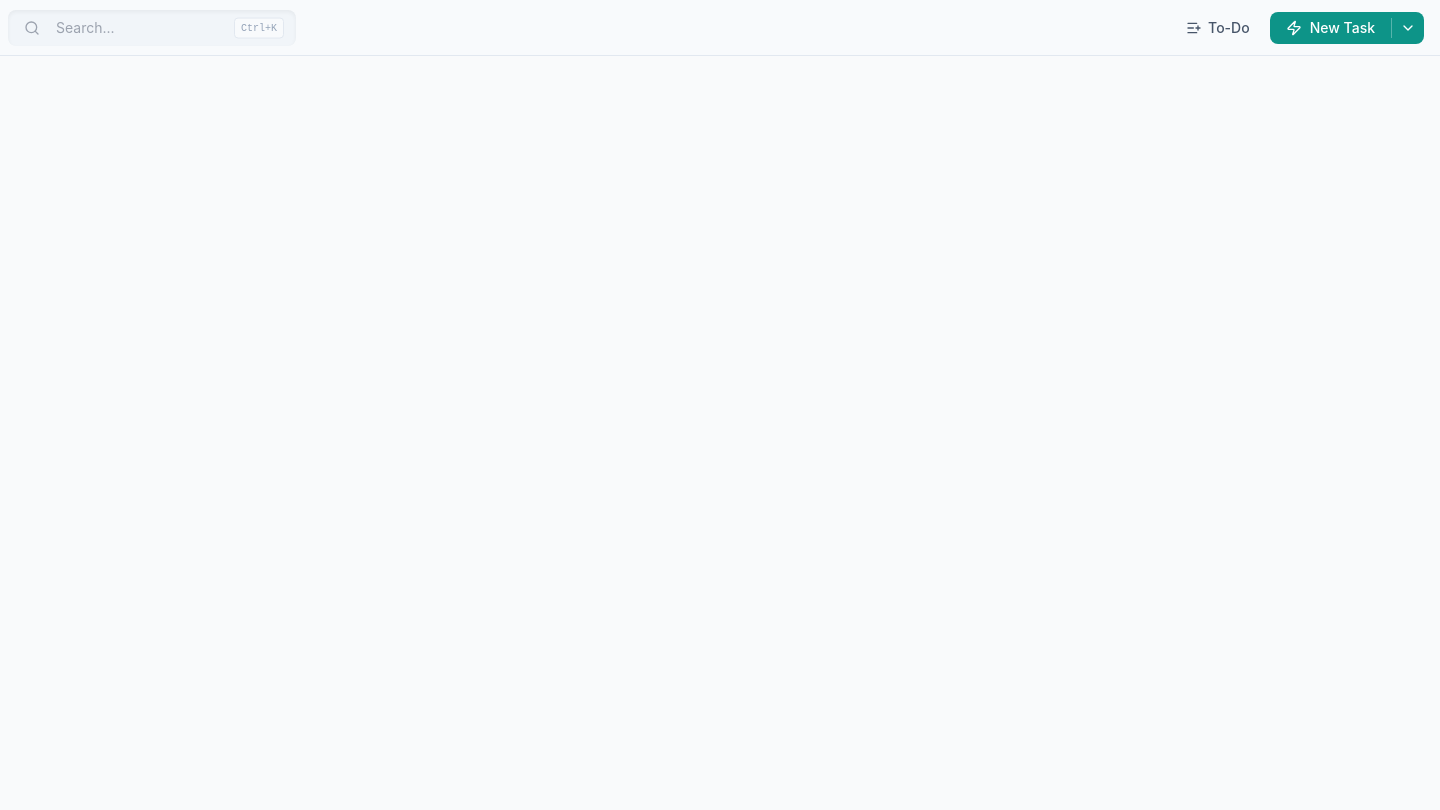
Test case: GlobalHeader desktop toolbar › closes the creation menu on an outside pointer press
Click the button named "More creation options".
click(1408, 28)  # box [1392,12,1424,44]
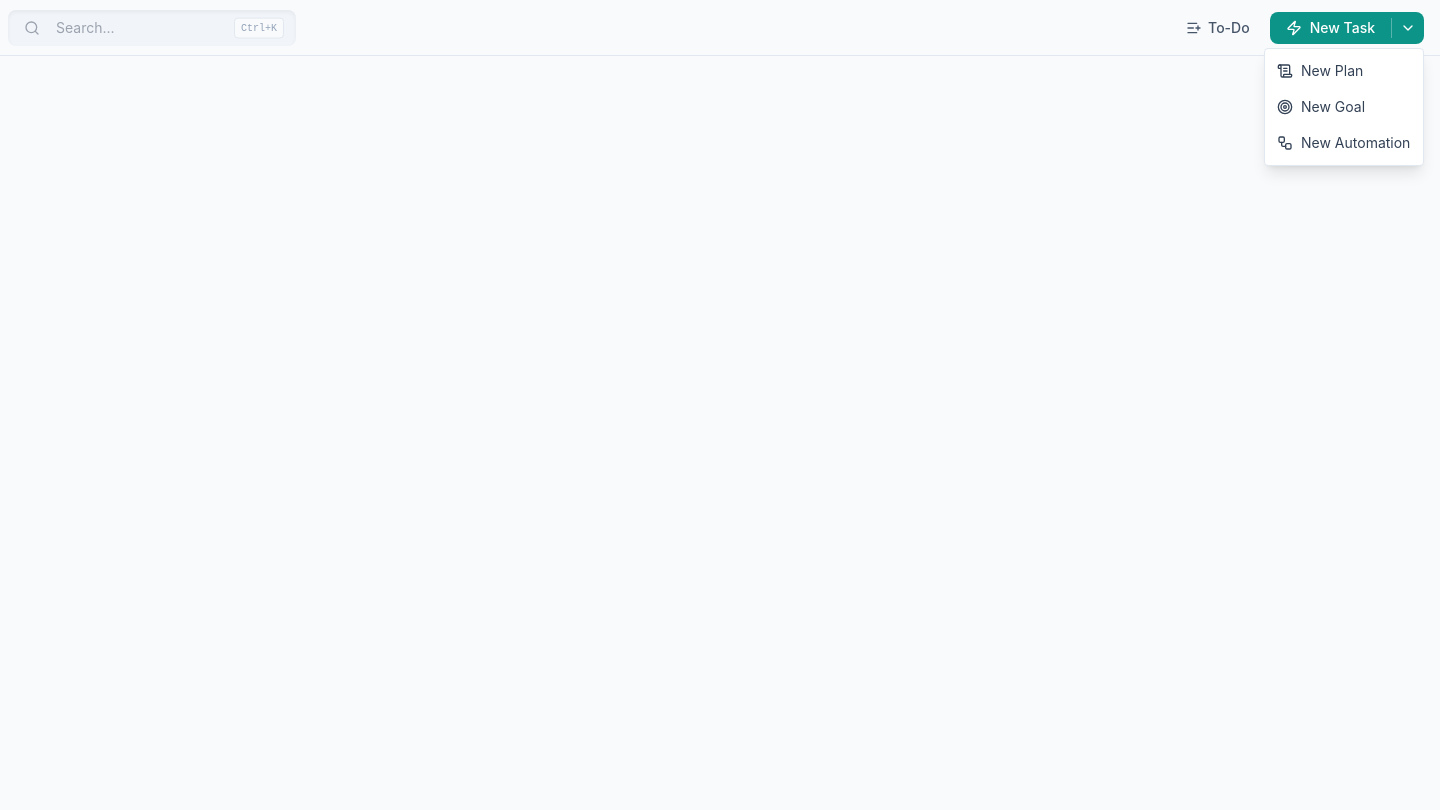
Result: the menu named "More creation options" is shown at [1264,48,1424,166]
Result: the menu item "New Plan" is shown at [1269,52,1419,88]
Result: the menu item "New Goal" is shown at [1269,88,1419,124]
Press the mouse on the element showing "Ctrl+K To-Do New Task New Plan New Goal New Automation" at (720, 405), box [0,0,1439,809]
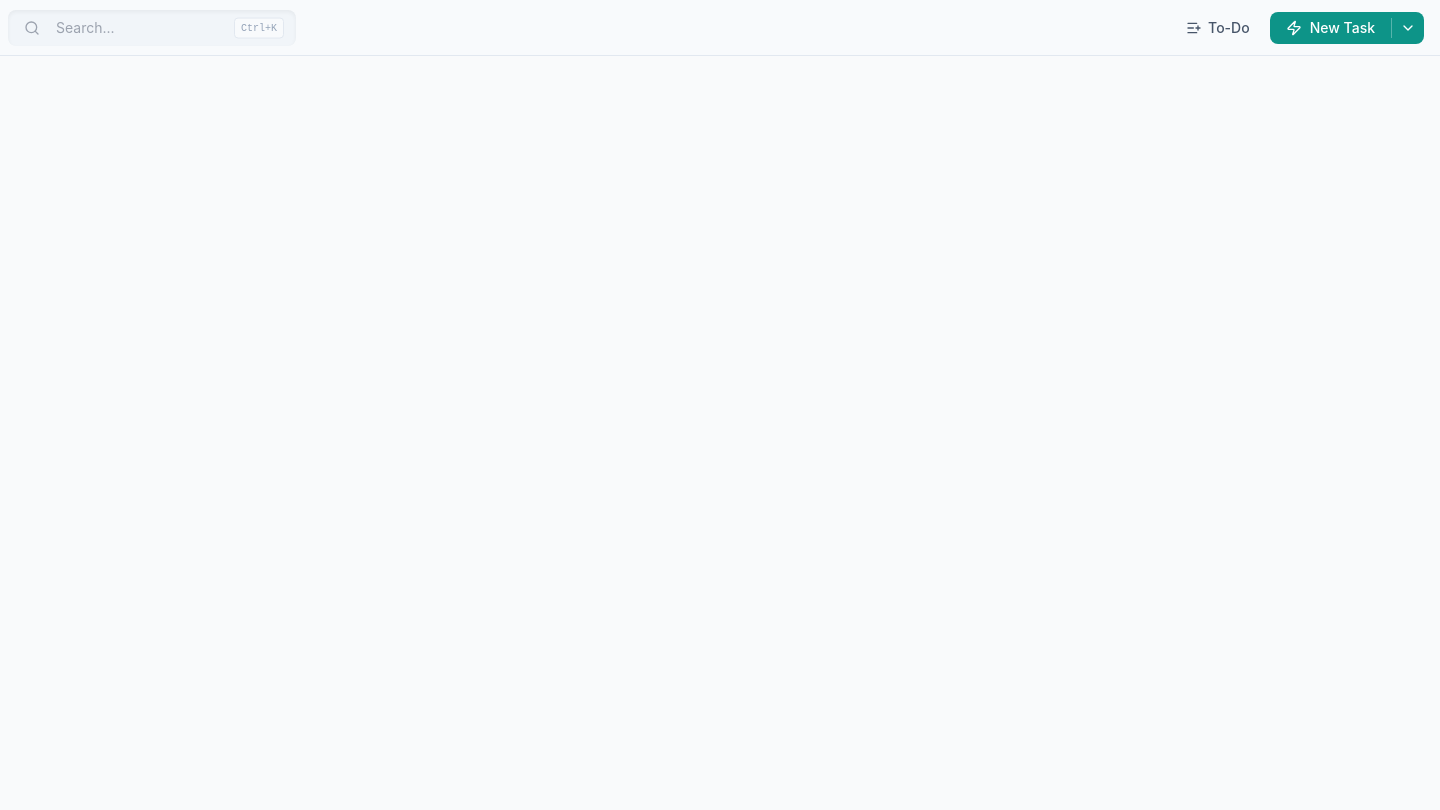
Result: the menu is gone
